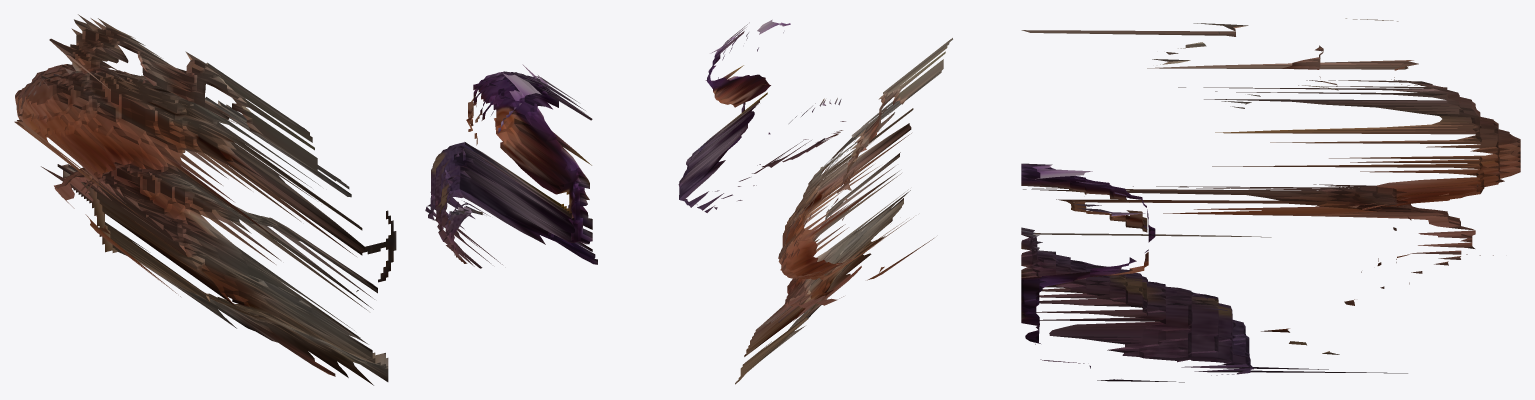
Rendered from frame_00291.glb.
3 views of the same model, side by side, from view 1: azimuth 30°, elevation 25°; view 2: azimuth 150°, elevation 25°; view 3: azimuth 270°, elevation 25° (orthographic). The views are drawn at different scales.
Parts seen in each view (by area): view 1: geometry_0; view 2: geometry_0; view 3: geometry_0.
Part boxes in pixels (<box>): geometry_0: <box>14,14,597,385</box>; geometry_0: <box>678,19,952,384</box>; geometry_0: <box>1021,18,1520,382</box>.
Bounding box in the file's own units: 0.1357 × 0.1144 × 0.16.
1 material, 1 textured.
